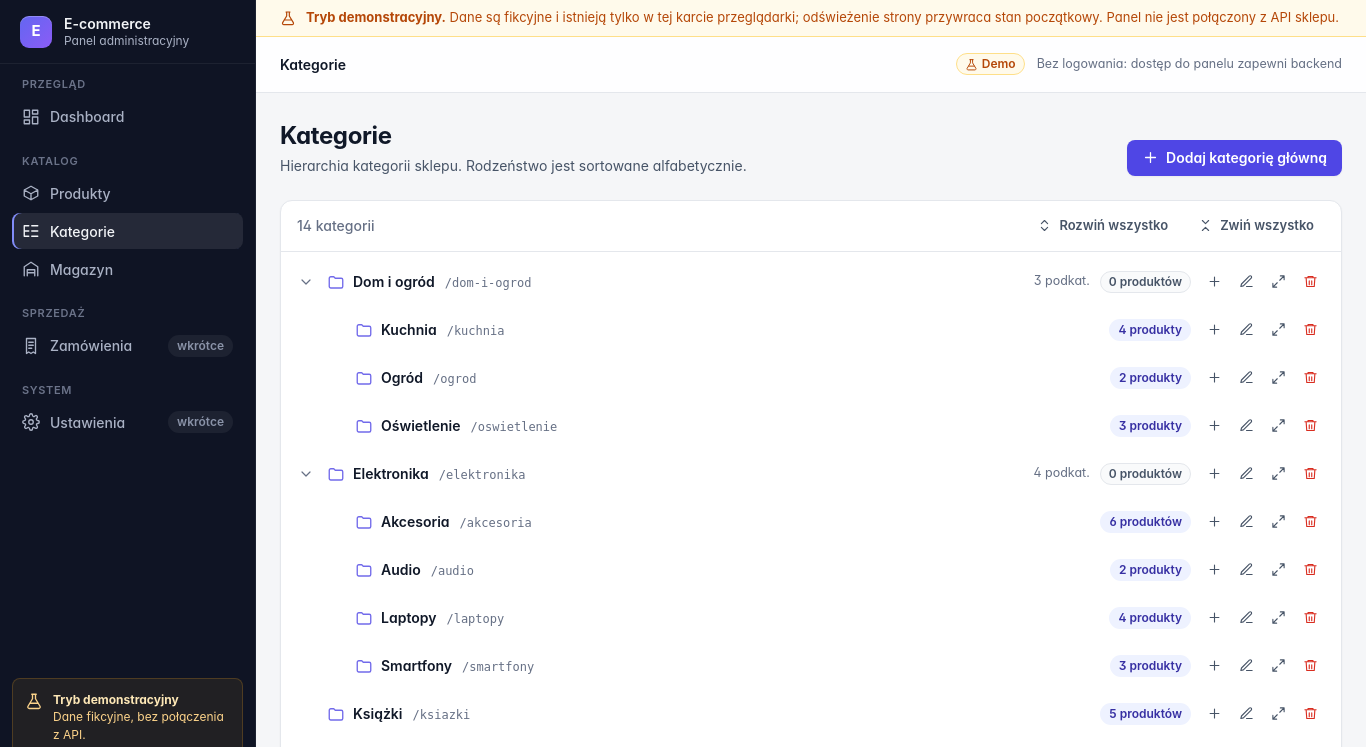
Test: CategoriesPage › confirms deletion and shows why a category with products cannot be deleted
Click the button named "Usuń Laptopy".
click(1310, 618)  # box [1295,602,1325,632]
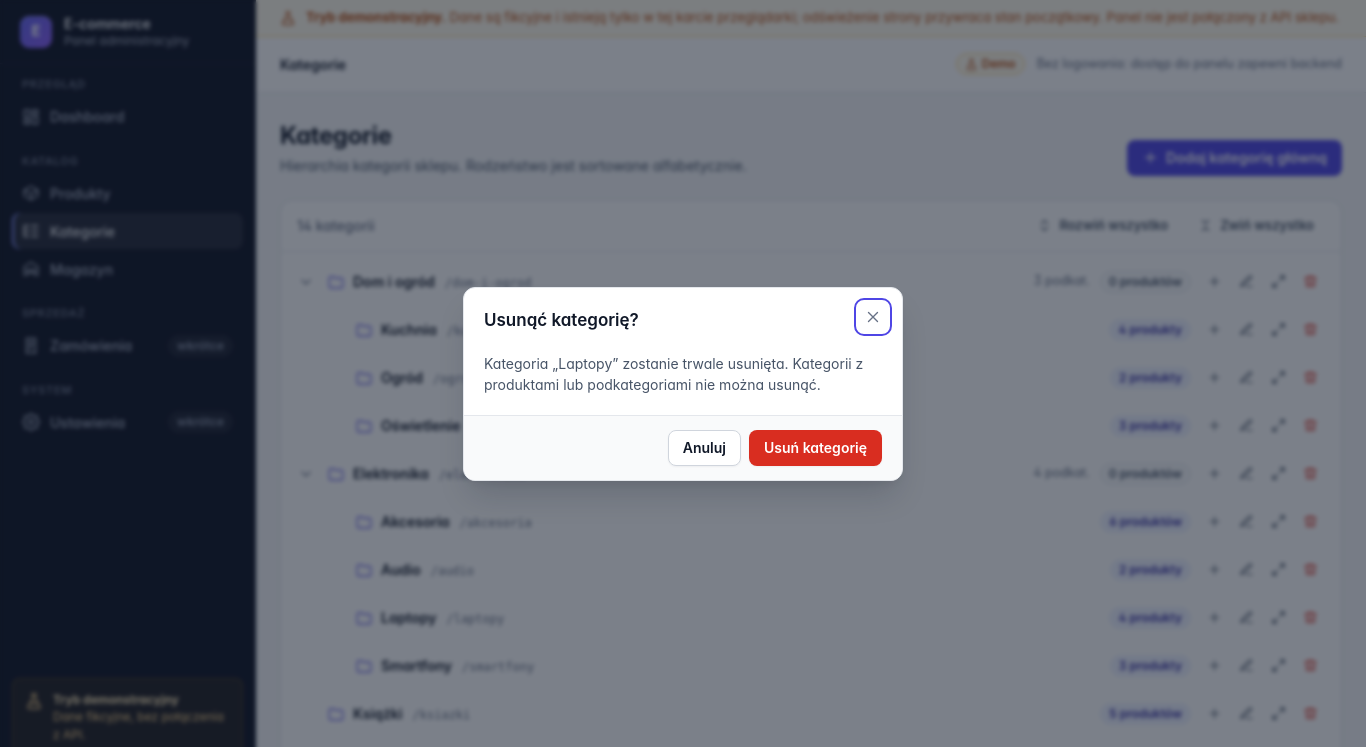
Click the button "Usuń kategorię".
click(816, 448)  # box [749,430,882,466]
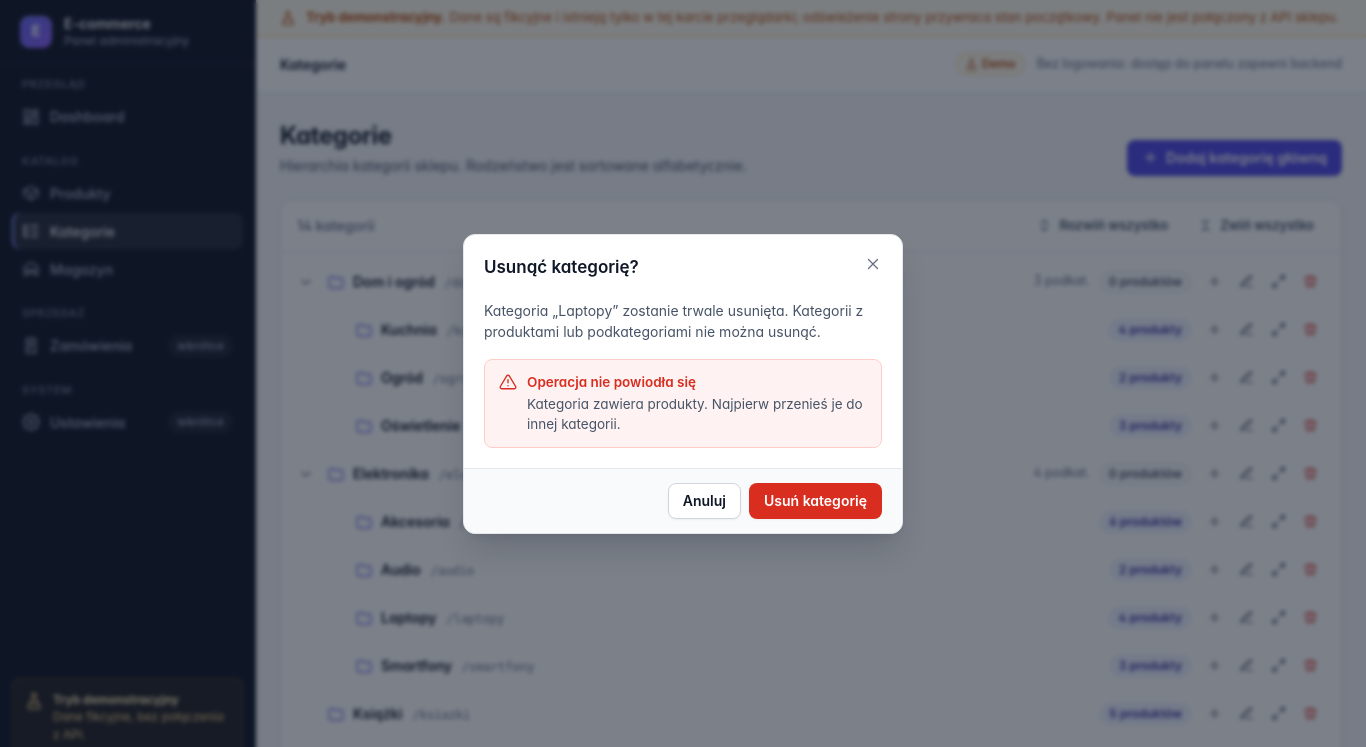
Expected: the message shows "Kategoria zawiera produkty", [527,396,863,432]
